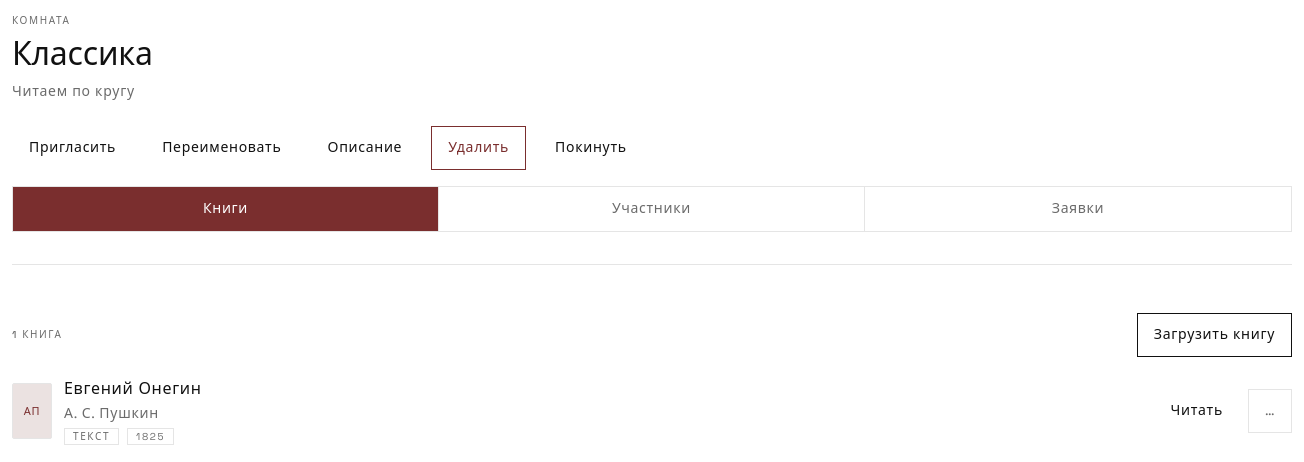
Test case: вкладки › участники показываются списком с ролями
expect the heading "Классика" is shown: met, box [12, 34, 153, 74]
Click the tab "Участники".
click(652, 209)  # box [439, 187, 865, 231]
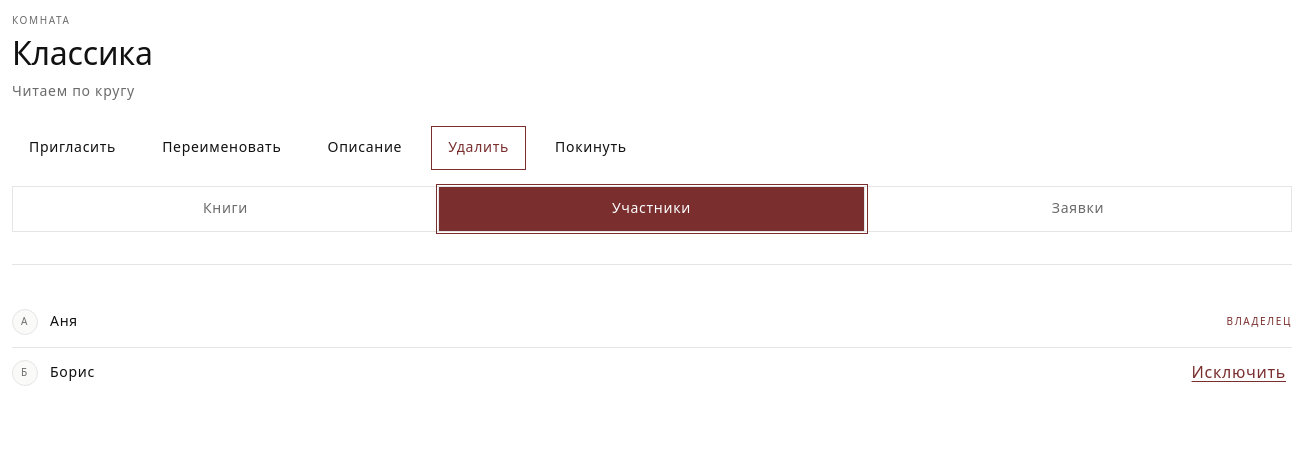
expect the text "Борис" is shown: met, box [50, 363, 95, 381]
expect the text "Аня" is shown: met, box [50, 312, 78, 330]
expect the text "владелец" is shown once: met, box [1226, 314, 1292, 329]
